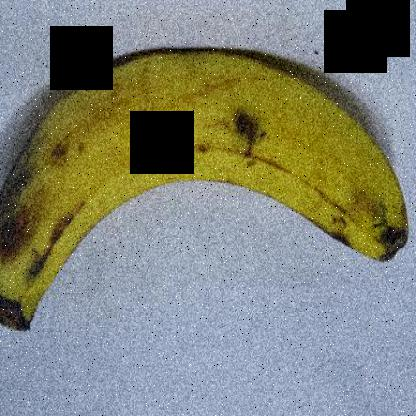ripe: (1, 40, 410, 332)
